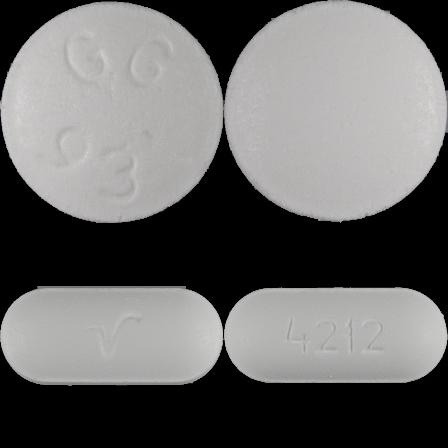50090-0169: (0, 0, 224, 224)
